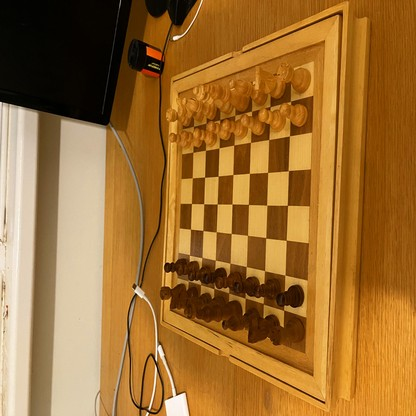bishop_black: (223, 308, 259, 331), (177, 293, 212, 310)
bishop_white: (230, 80, 268, 104), (182, 98, 216, 118)
king_black: (197, 301, 242, 323)
king_white: (204, 85, 251, 110)
knight_black: (248, 311, 280, 342), (170, 287, 198, 310)
knight_white: (254, 66, 285, 97), (176, 97, 204, 122)
pawn_black: (277, 285, 304, 308), (254, 279, 280, 300), (234, 277, 260, 297), (215, 273, 241, 290), (188, 267, 211, 284), (204, 267, 227, 284), (164, 259, 188, 272), (177, 261, 199, 275)
pawn_white: (280, 104, 308, 127), (257, 109, 285, 130), (221, 119, 247, 139), (241, 115, 266, 135), (207, 123, 231, 142), (193, 127, 217, 145), (169, 132, 192, 150), (181, 130, 202, 148)
queen_black: (184, 297, 226, 319)
queen_white: (193, 87, 232, 112)
rock_black: (270, 318, 304, 346), (160, 284, 186, 301)
rock_white: (278, 63, 310, 92), (166, 108, 192, 127)
